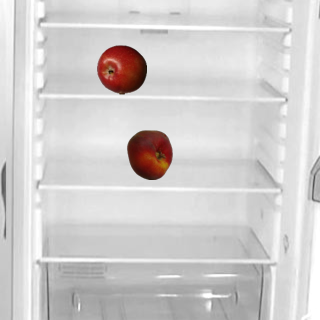Apple Braeburn: (96, 44, 146, 94)
Nectarine Flat: (124, 129, 174, 179)
